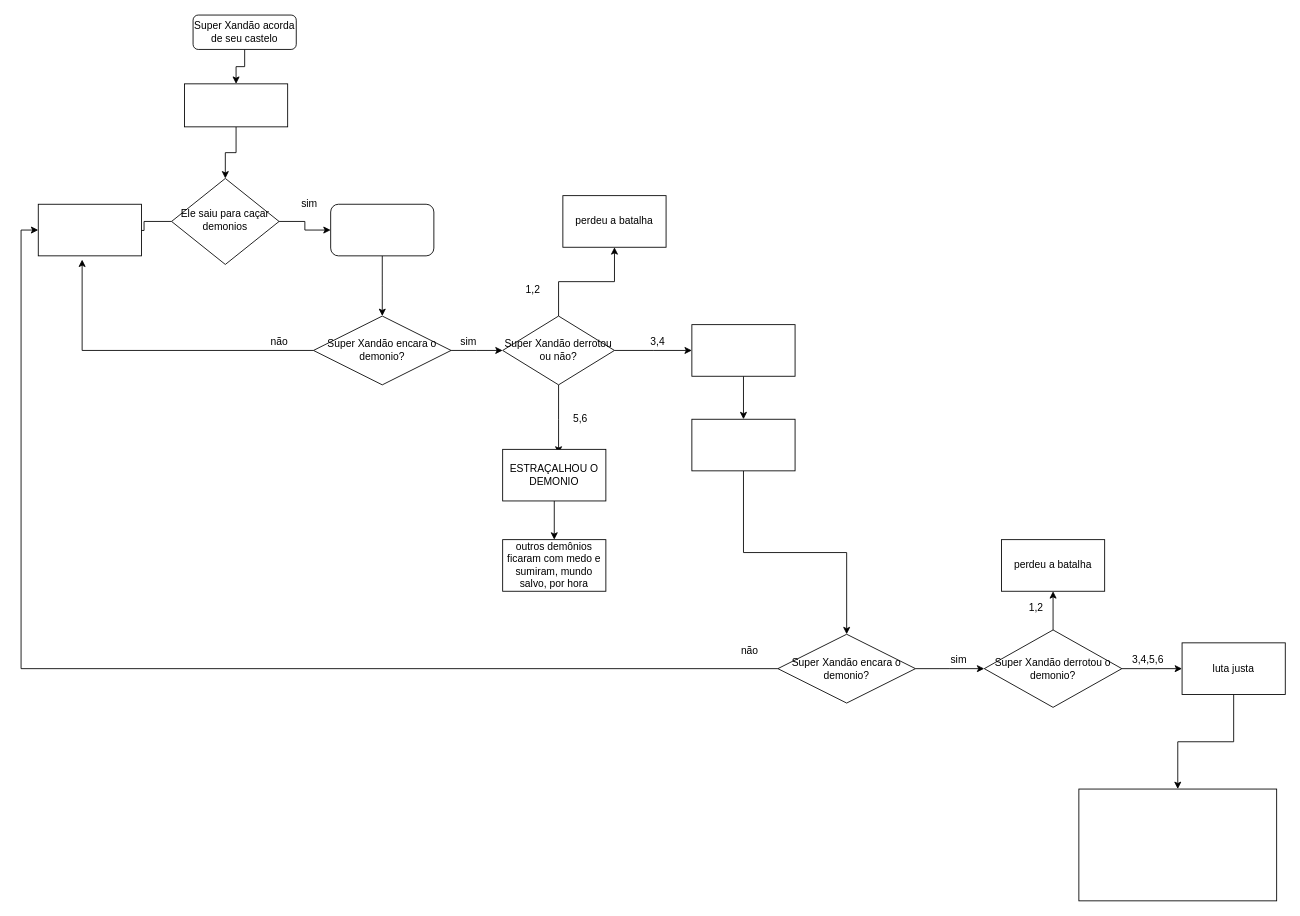
This 1300x916 diagram has some shape labels left out. The centre of each missing label's shape, as x and y in pixels:
"derrotou de forma justa" goes at [743,350].
"mais um demonio surge, agora mais forte (lvl 4)" goes at [743,444].
"MUNDO SALVO DE DEMONIOS ENQUANTO SUPER XANDÃO ESTIVER VIVO" goes at [1177,844].
"O MUNDO FOI TOMADO" goes at [89,229].
"Super Xandão avistou um demonio lvl 3" goes at [382,229].
"São exatamente 3:33 da manhã" goes at [236,105].
